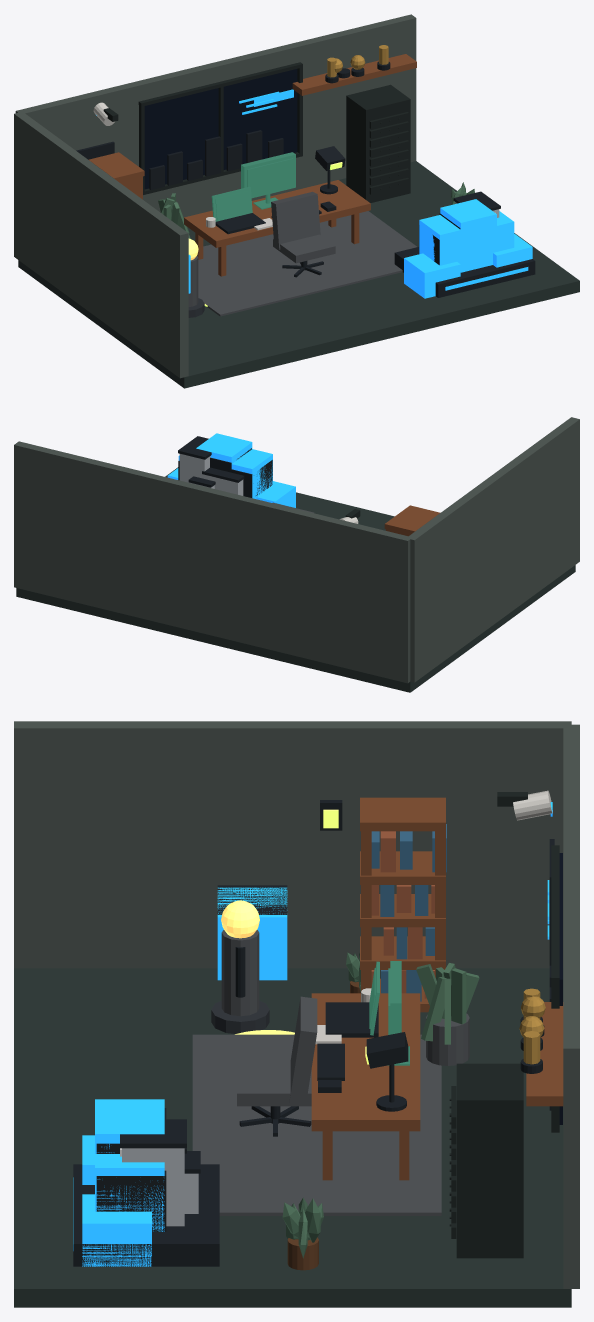
The model's file is interactive_portfolio_office.glb.
The picture shows the model from 3 angles, top to bottom: view 1: azimuth 30°, elevation 25°; view 2: azimuth 150°, elevation 25°; view 3: azimuth 270°, elevation 25°; orthographic projection. The views are drawn at different scales.
Parts seen in each view (by area): view 1: ROOM_WALL_SIDE, ROOM_FLOOR, ROOM_WALL_BACK, PROP_RUG, ROOM_WINDOW, ServerRack, PROP_DESK, PROP_CHAIR, BuildingPlatform, BMS_FACADE_WINDOW.004, BMS_FACADE_ACCENT, FloatingShelf (+15 smaller); view 2: ROOM_WALL_BACK, ROOM_WALL_SIDE, ROOM_FLOOR, BMS_FACADE_WINDOW.010, BookshelfShelf.004, BMS_FACADE_WINDOW.004, BMS_FACADE_ACCENT, BMS_FACADE_BAND, MiniBuilding.001, BMS_READABLE_ROOF.001, MiniBuilding; view 3: ROOM_WALL_SIDE, ROOM_FLOOR, PROP_RUG, ServerRack, ROOM_WALL_BACK, PROP_DESK, BuildingPlatform, BMS_FACADE_ACCENT.001, ABOUT_CARD_ACCENT, BookshelfShelf.004, BMS_FACADE_BAND.002, FloatingShelf (+26 smaller).
Part boxes in pixels (x1,y1,x2,y2): ROOM_WALL_SIDE: (14, 113, 188, 378); ROOM_FLOOR: (18, 161, 579, 388); ROOM_WALL_BACK: (15, 14, 416, 217); PROP_RUG: (198, 211, 416, 316); ROOM_WINDOW: (144, 69, 297, 189); ServerRack: (346, 84, 410, 202); PROP_DESK: (184, 180, 370, 247); PROP_CHAIR: (271, 191, 320, 249); BuildingPlatform: (394, 247, 535, 297); BMS_FACADE_WINDOW.004: (419, 215, 475, 267); BMS_FACADE_ACCENT: (404, 253, 460, 298); FloatingShelf: (292, 54, 416, 95); ROOM_WALL_BACK: (14, 441, 412, 683); ROOM_WALL_SIDE: (409, 417, 579, 682); ROOM_FLOOR: (16, 467, 575, 692); BMS_FACADE_WINDOW.010: (196, 433, 252, 463); BookshelfShelf.004: (384, 505, 440, 534); BMS_FACADE_WINDOW.004: (231, 449, 272, 496); BMS_FACADE_ACCENT: (256, 481, 295, 507); BMS_FACADE_BAND: (216, 460, 272, 497); MiniBuilding.001: (179, 454, 210, 482); BMS_READABLE_ROOF.001: (178, 436, 211, 459); MiniBuilding: (203, 474, 243, 495); ROOM_WALL_SIDE: (14, 721, 571, 968); ROOM_FLOOR: (14, 968, 571, 1307); PROP_RUG: (192, 1034, 441, 1215); ServerRack: (456, 1063, 523, 1258); ROOM_WALL_BACK: (563, 724, 579, 1288); PROP_DESK: (311, 993, 420, 1131); BuildingPlatform: (73, 1164, 219, 1266); BMS_FACADE_ACCENT.001: (82, 1194, 151, 1266); ABOUT_CARD_ACCENT: (217, 887, 287, 980); BookshelfShelf.004: (360, 797, 445, 831); BMS_FACADE_BAND.002: (96, 1170, 166, 1231); FloatingShelf: (526, 1002, 563, 1106).
Size of the model in its own units: 11.12 by 4.12 by 8.12.
